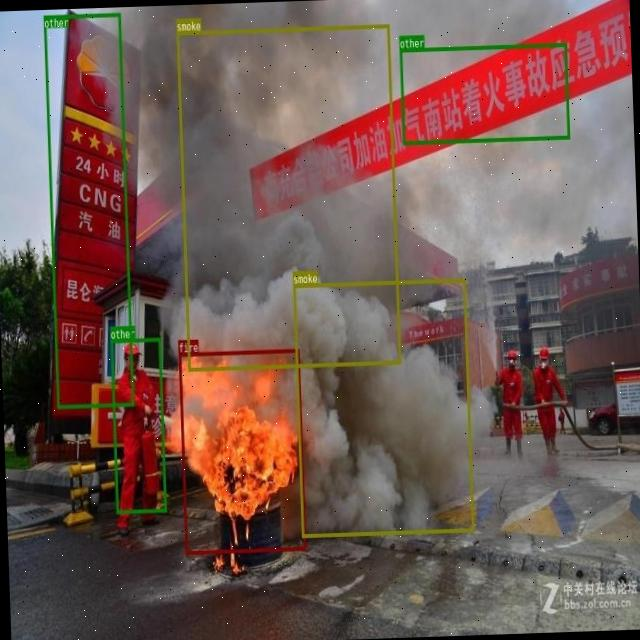fire: (178, 348, 305, 554)
smoke: (176, 23, 400, 370), (292, 277, 473, 537)
